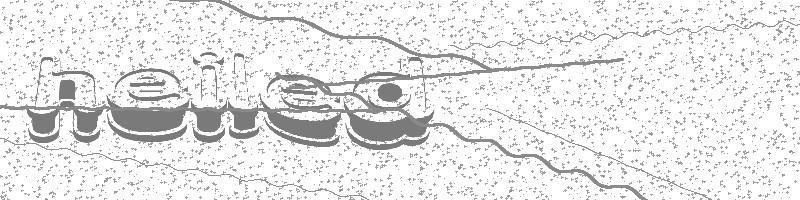d: (343, 52, 437, 147)
e: (261, 66, 346, 150), (104, 67, 193, 146)
h: (30, 55, 101, 150)
i: (190, 45, 231, 152)
l: (229, 45, 264, 151)
